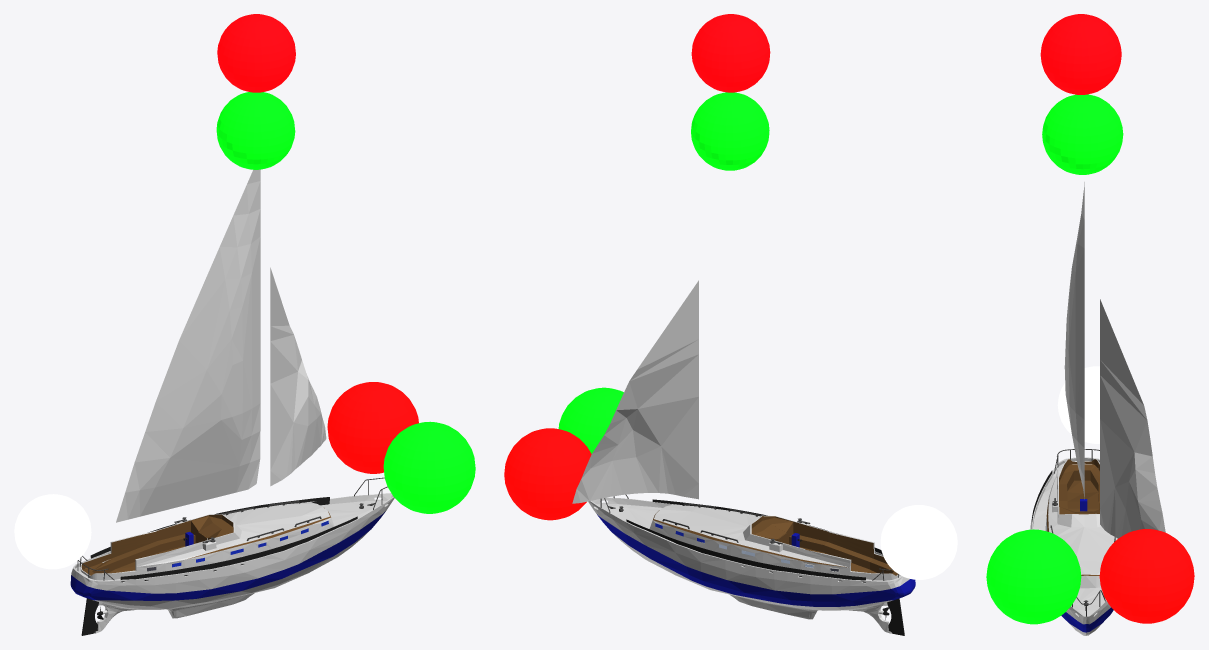
The picture shows the model from 3 angles, left to right: view 1: azimuth 30°, elevation 25°; view 2: azimuth 150°, elevation 25°; view 3: azimuth 270°, elevation 25°; orthographic projection. The views are drawn at different scales.
Visible parts, largest first — view 1: Group_001.001, ss, Group_001, light-SG, light-SR, light-ARR, light-ARG, light-STRN, fence; view 2: ss, Group_001, light-SR, light-ARR, light-ARG, light-STRN, light-SG, fence2; view 3: Group_001, ss, light-SG, light-SR, light-ARR, light-ARG, Group_001.001, light-STRN.
Boxes of the visible parts, x1=… form: Group_001.001: x1=116, y1=169, x2=260, y2=522; ss: x1=70, y1=477, x2=394, y2=635; Group_001: x1=270, y1=267, x2=326, y2=486; light-SG: x1=383, y1=421, x2=475, y2=513; light-SR: x1=327, y1=382, x2=418, y2=473; light-ARR: x1=217, y1=14, x2=295, y2=92; light-ARG: x1=216, y1=92, x2=295, y2=169; light-STRN: x1=14, y1=494, x2=91, y2=569; fence: x1=120, y1=516, x2=357, y2=582; ss: x1=588, y1=494, x2=915, y2=635; Group_001: x1=572, y1=280, x2=698, y2=503; light-SR: x1=504, y1=428, x2=591, y2=520; light-ARR: x1=691, y1=14, x2=770, y2=92; light-ARG: x1=691, y1=92, x2=769, y2=170; light-STRN: x1=880, y1=505, x2=957, y2=579; light-SG: x1=558, y1=387, x2=623, y2=453; fence2: x1=626, y1=519, x2=865, y2=582; Group_001: x1=1100, y1=299, x2=1165, y2=538; ss: x1=1030, y1=449, x2=1117, y2=635; light-SG: x1=986, y1=529, x2=1081, y2=624; light-SR: x1=1099, y1=529, x2=1194, y2=623; light-ARR: x1=1040, y1=14, x2=1121, y2=94; light-ARG: x1=1042, y1=94, x2=1123, y2=174; Group_001.001: x1=1064, y1=182, x2=1084, y2=499; light-STRN: x1=1057, y1=366, x2=1099, y2=443.
Bounding box in the file's own units: 18.43 × 24.42 × 7.69.
